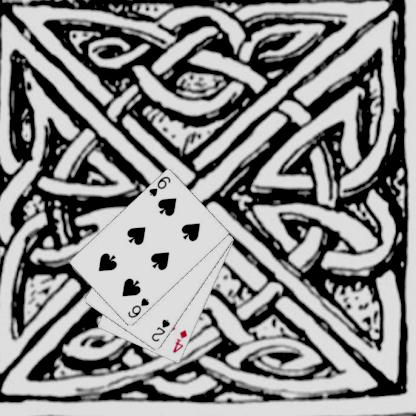2S: (148, 317, 172, 343)
4D: (170, 327, 188, 355)
6S: (125, 295, 150, 320), (146, 174, 172, 198)
